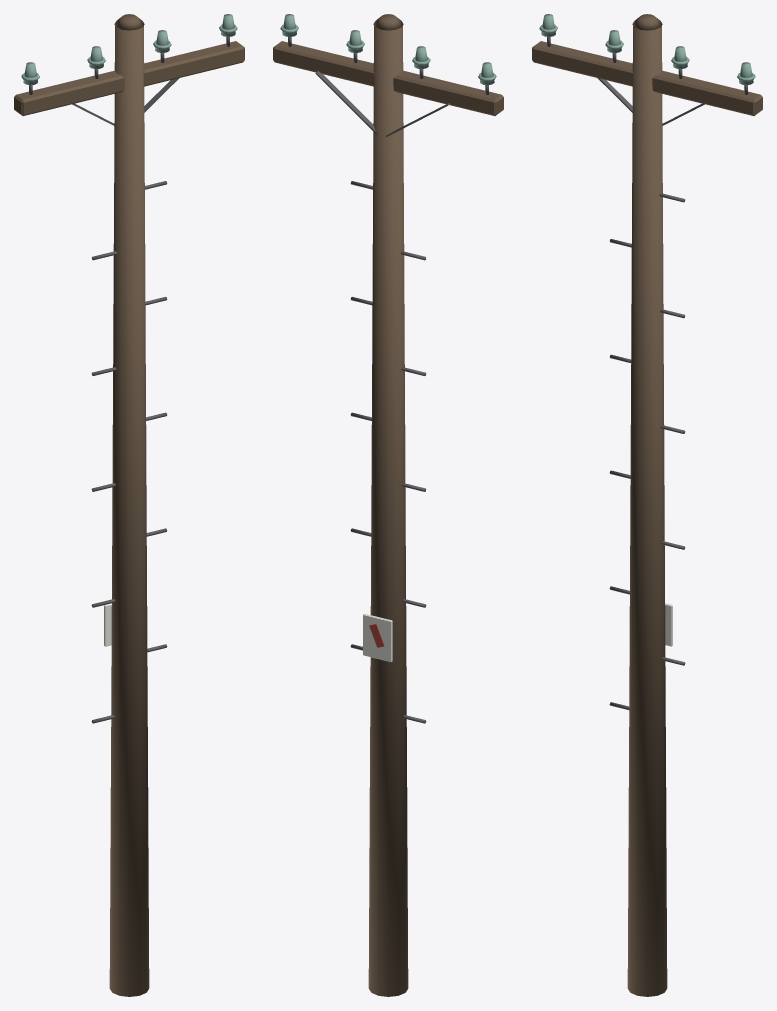
File: v_pole.glb
The picture shows the model from 3 angles, left to right: view 1: azimuth 30°, elevation 25°; view 2: azimuth 150°, elevation 25°; view 3: azimuth 330°, elevation 25°; orthographic projection.
Visible parts, largest first — view 1: Pole; view 2: Pole; view 3: Pole.
Boxes of the visible parts, bbox=[...] form: Pole: bbox=[14, 14, 244, 996]; Pole: bbox=[273, 14, 503, 996]; Pole: bbox=[532, 14, 762, 996].
Size of what is drawn, in the model's own units: 1.7 by 7.05 by 0.2845.
